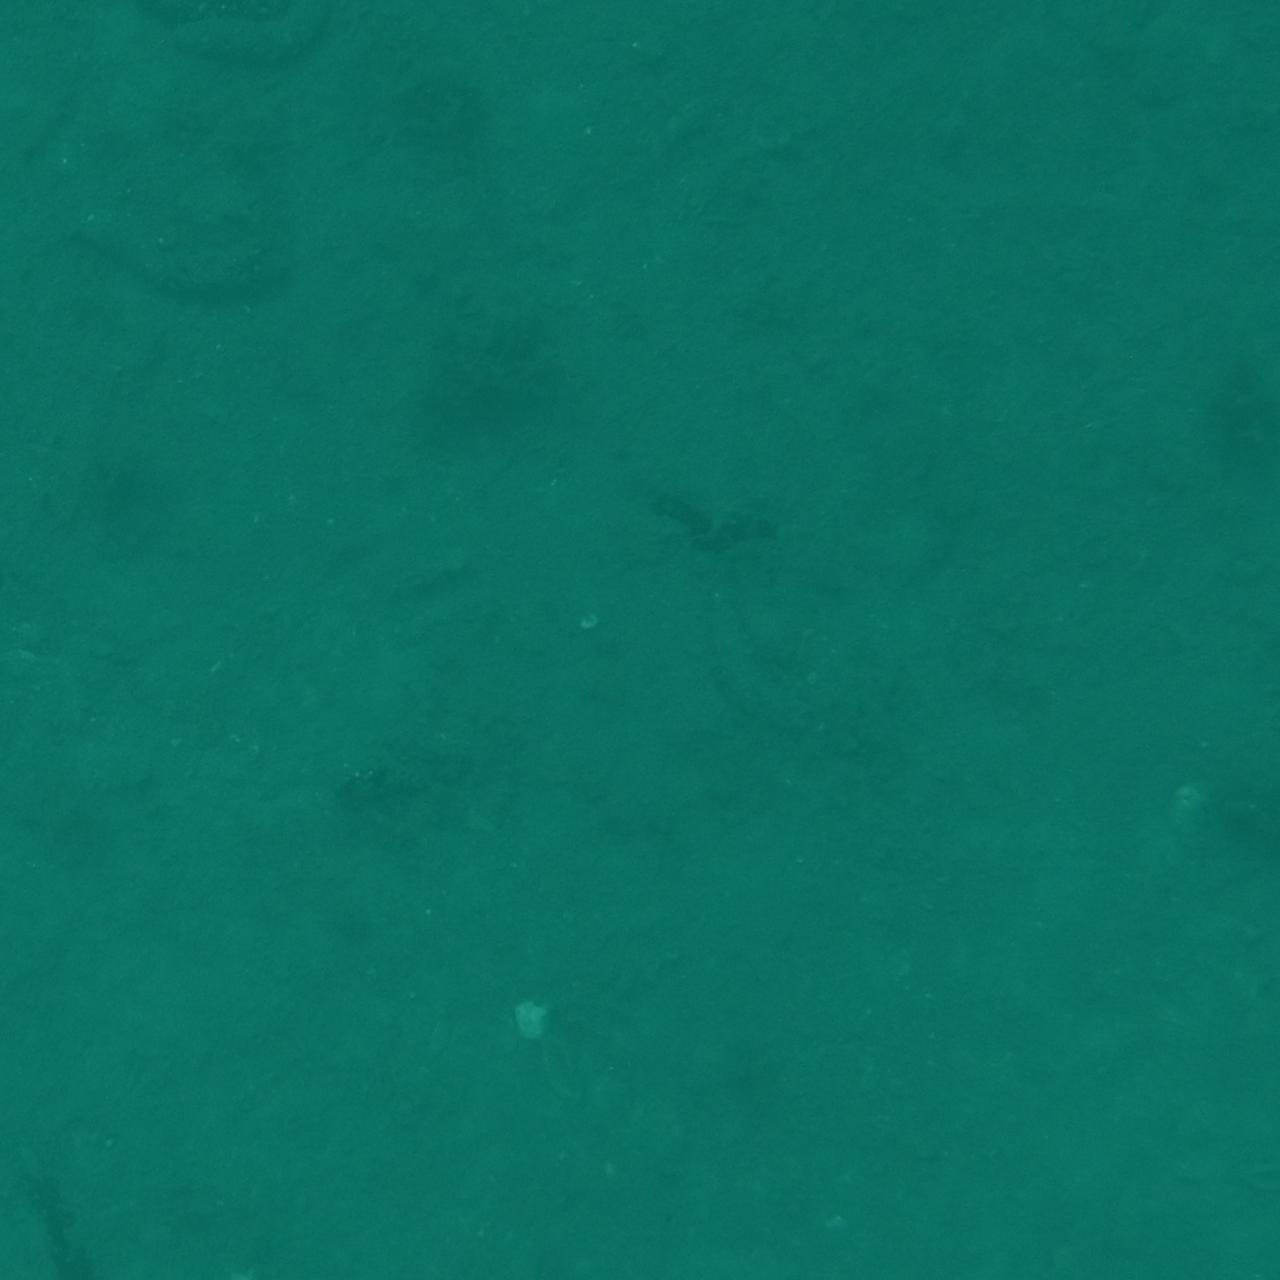Holothuria tubulosa: (674, 538, 881, 762), (55, 188, 347, 320), (1164, 572, 1280, 748), (769, 1160, 930, 1280), (0, 368, 91, 574), (0, 1142, 120, 1280), (161, 0, 335, 86), (1169, 196, 1280, 318), (316, 1219, 529, 1280), (0, 416, 52, 663), (1155, 1179, 1280, 1280), (0, 0, 96, 123), (0, 722, 49, 935), (674, 0, 872, 52), (1112, 1220, 1280, 1280), (0, 0, 75, 116), (0, 0, 103, 82), (0, 1203, 98, 1280), (1130, 0, 1280, 50), (0, 0, 103, 56), (1235, 1172, 1280, 1280)
Rifiuto: (0, 1182, 144, 1280)
